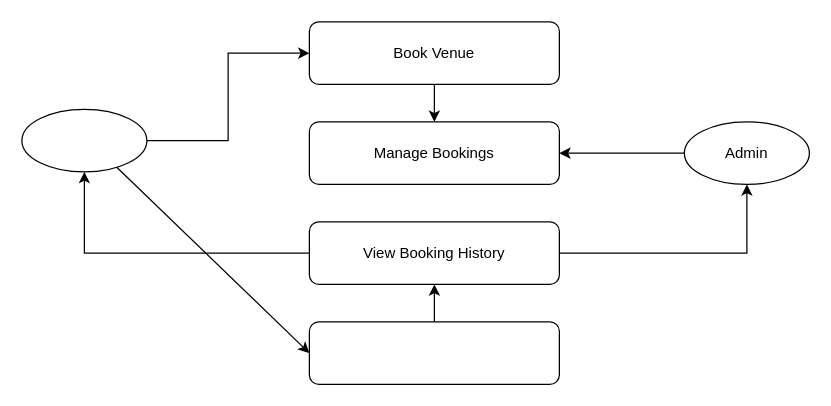
This 831x406 diagram has some shape labels left out. Each missing label, with the centre of its shape:
"Provide Venue Feedback" goes at point 433,352.
"User" goes at point 84,140.
